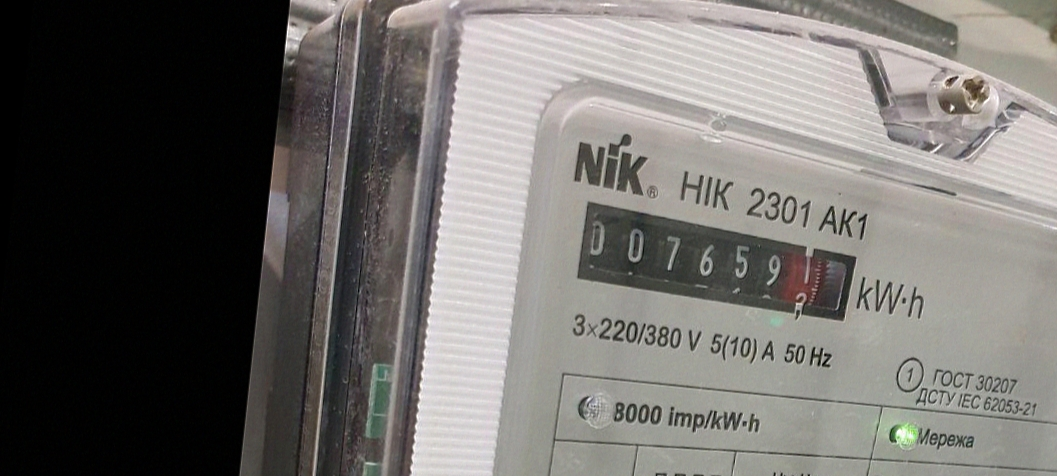0: (622, 222, 651, 266), (584, 215, 611, 258)
1: (798, 253, 818, 288)
5: (730, 241, 754, 281)
6: (695, 238, 720, 279)
7: (661, 231, 684, 273)
9: (764, 250, 784, 289)
screen: (565, 191, 869, 340)
